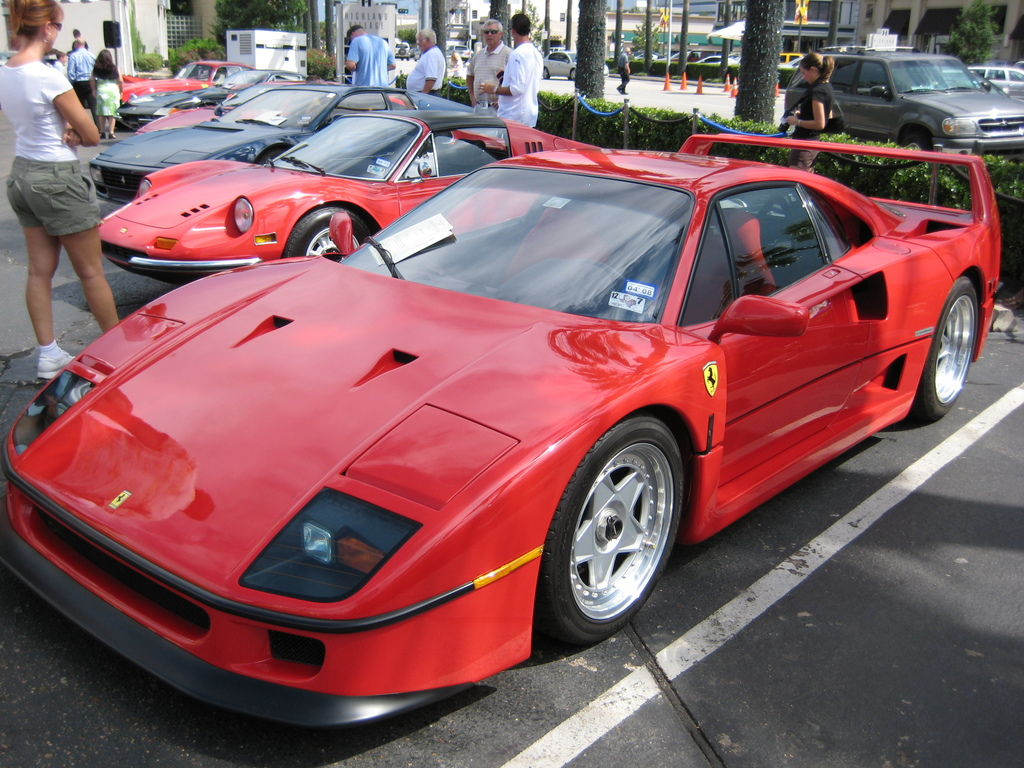mobil: (45, 134, 1015, 729)
